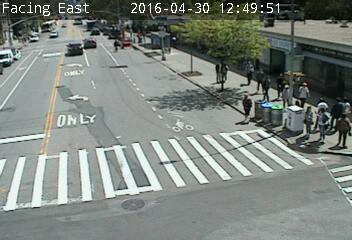neg: (160, 115, 200, 168), (14, 142, 46, 184), (63, 96, 93, 137), (119, 154, 148, 193), (154, 32, 179, 66), (228, 156, 253, 190), (39, 38, 64, 71), (72, 32, 97, 65), (103, 92, 126, 123), (127, 63, 149, 92)
pos: (235, 90, 257, 119), (298, 103, 320, 132), (334, 114, 351, 143), (241, 58, 259, 82), (259, 76, 277, 99), (211, 61, 227, 83), (300, 80, 316, 101), (111, 35, 124, 53), (334, 95, 347, 112)
